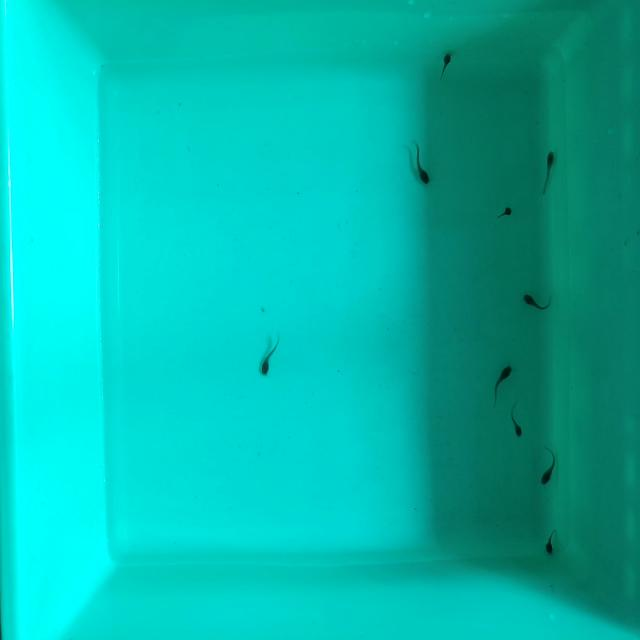lele: (257, 333, 287, 381), (495, 364, 513, 408), (437, 50, 455, 84), (416, 144, 430, 183), (522, 292, 550, 310), (512, 402, 524, 440), (541, 446, 553, 484), (546, 148, 554, 194), (545, 530, 556, 556), (494, 206, 512, 220)
